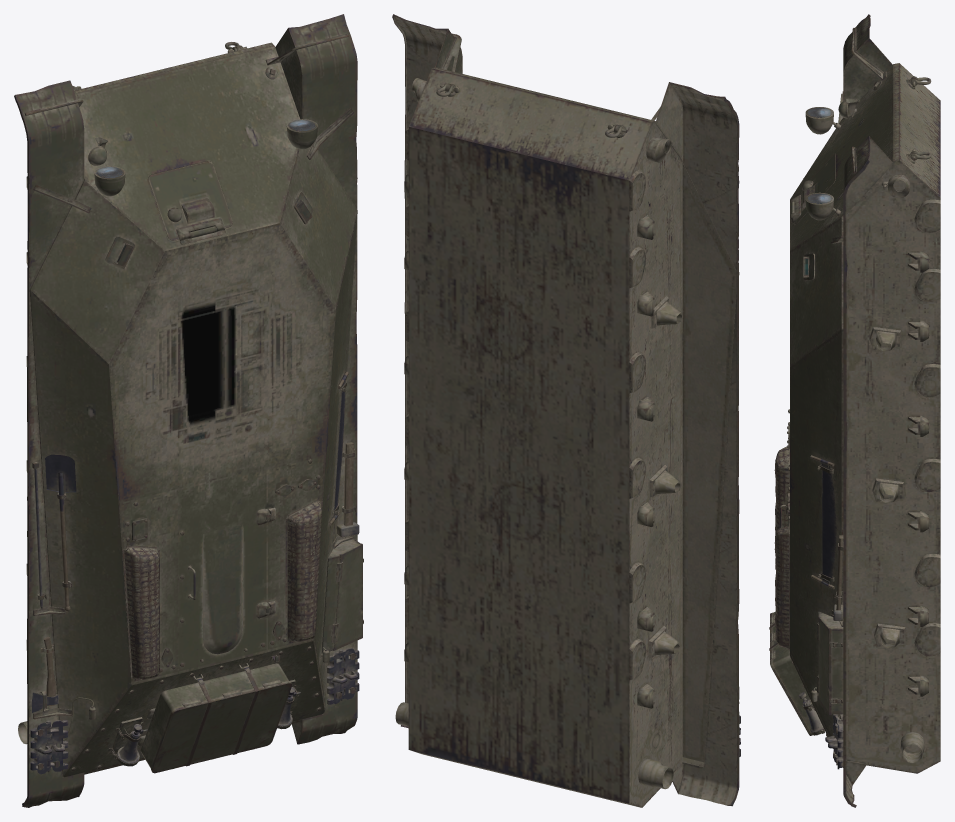
File: Hull.glb
3 renders of one model, left to right at view 1: azimuth 30°, elevation 25°; view 2: azimuth 150°, elevation 25°; view 3: azimuth 270°, elevation 25°, orthographic. The views are drawn at different scales.
Visible parts, largest first — view 1: set_0_group_0; view 2: set_0_group_0; view 3: set_0_group_0.
Boxes of the visible parts, <box> form: set_0_group_0: <box>14,14,363,807</box>; set_0_group_0: <box>392,14,740,807</box>; set_0_group_0: <box>769,14,940,807</box>.
Size of the model in its own units: 2.45 by 5.07 by 1.21.
Materials: 1 (1 with a texture image).
